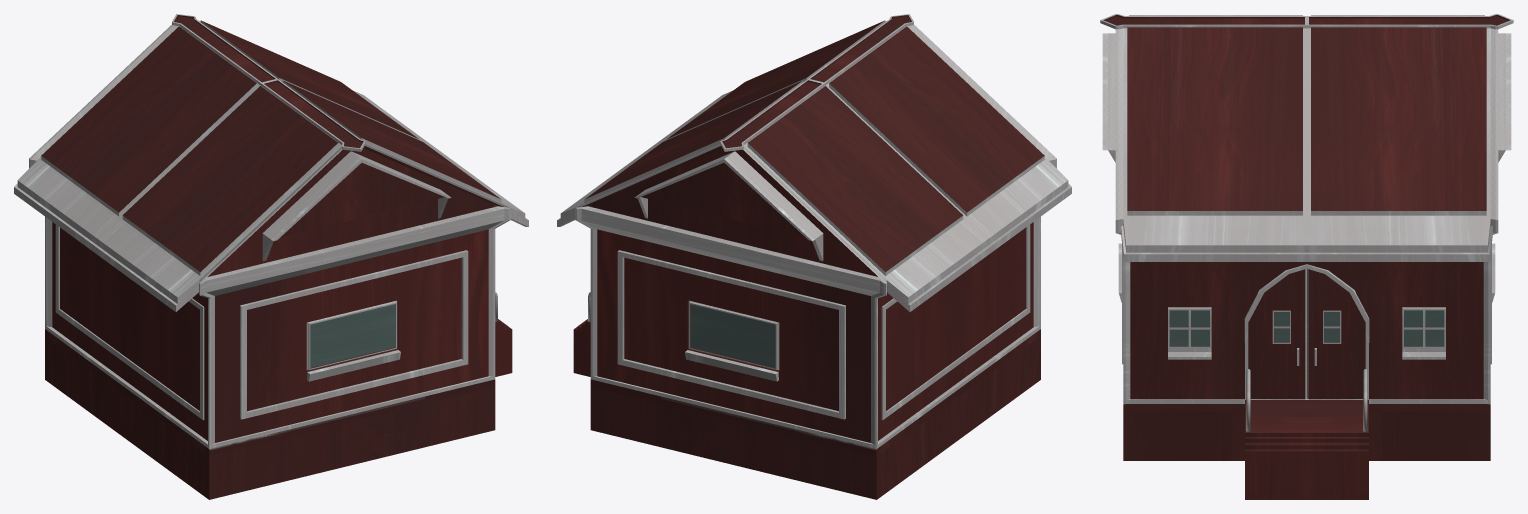
Rendered from barn.fbx.
3 renders of one model, left to right at view 1: azimuth 30°, elevation 25°; view 2: azimuth 150°, elevation 25°; view 3: azimuth 270°, elevation 25°, orthographic. The views are drawn at different scales.
Visible parts, largest first — view 1: Cube; view 2: Cube; view 3: Cube.
Part boxes in pixels (left/top/right/bottom): Cube: left=14, top=14, right=528, bottom=499; Cube: left=557, top=14, right=1071, bottom=499; Cube: left=1100, top=14, right=1513, bottom=499.
Size of the model in its own units: 2502 by 1987 by 2056.
